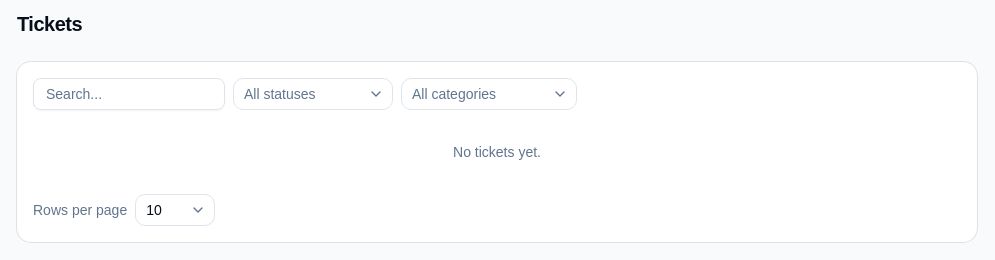
Test: TicketsPage — filtering › "Clear" button clears search and hides itself
Type "portal" into the field with placeholder "Search...".
click(129, 94); type("portal")  # box top-left (33, 78), bottom-right (225, 110)
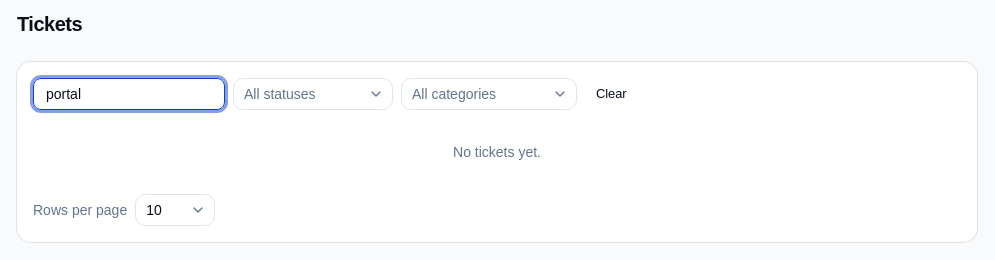
Click the button "Clear".
click(611, 94)  # box top-left (585, 80), bottom-right (638, 108)
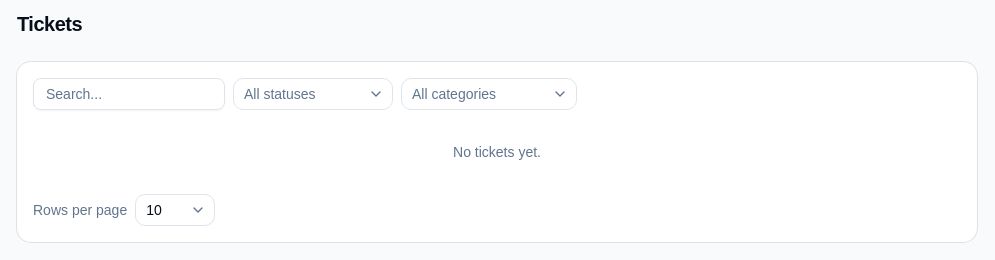
Expected: the field with placeholder "Search..." is empty, top-left (33, 78), bottom-right (225, 110)
Expected: the button "Clear" is gone
